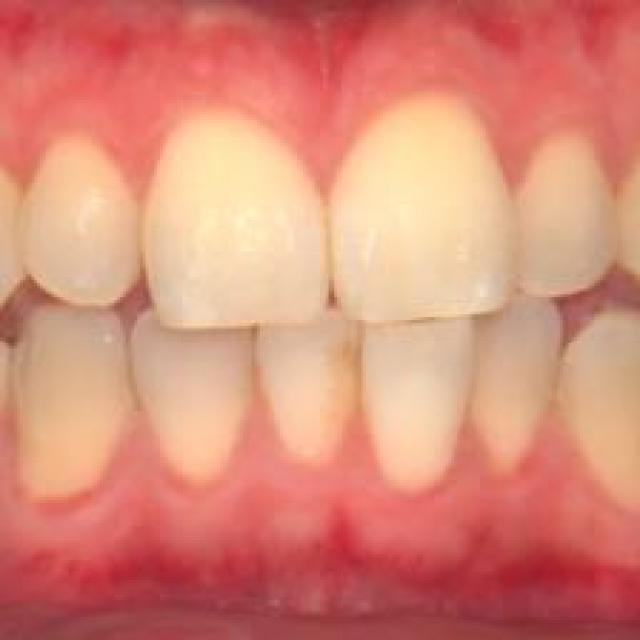cavity: (337, 334, 369, 420)
